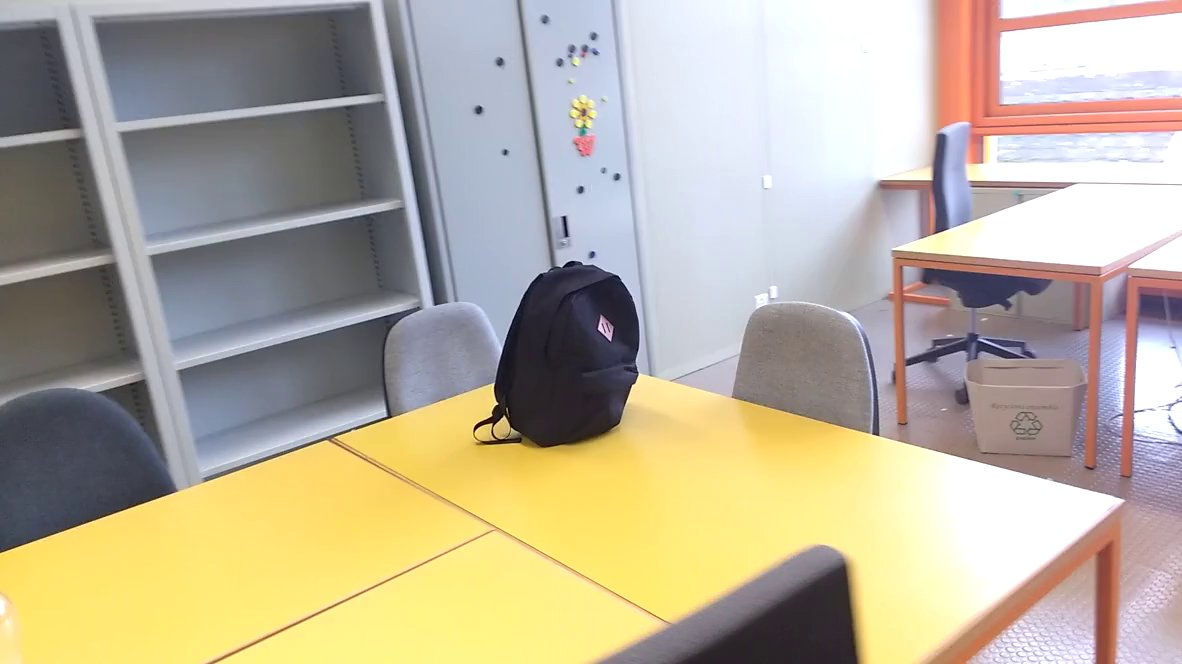bag: (468, 252, 645, 449)
box: (959, 347, 1097, 472)
chair: (885, 111, 1042, 407), (1, 384, 181, 558), (727, 292, 887, 466), (375, 299, 529, 431)
